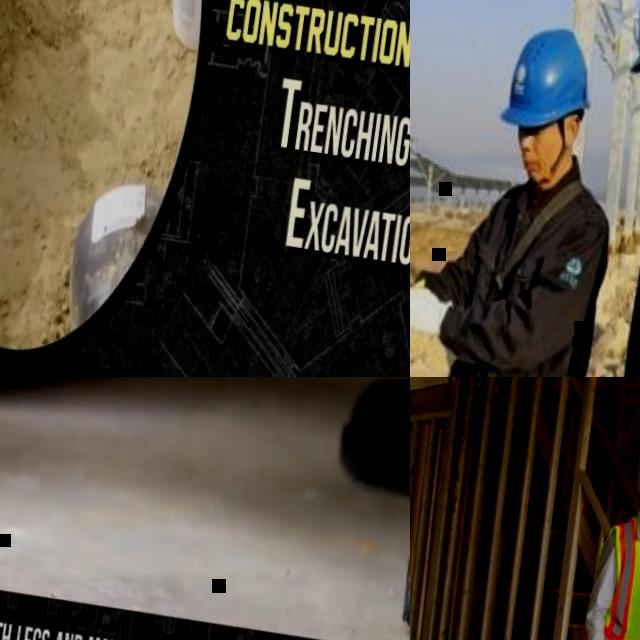helmet: (495, 20, 598, 136)
no_mask: (521, 150, 555, 186)
no_vest: (446, 186, 607, 377)
person: (82, 377, 410, 640), (410, 3, 640, 377), (576, 0, 640, 377), (531, 443, 640, 640)
vest: (571, 509, 640, 640)
